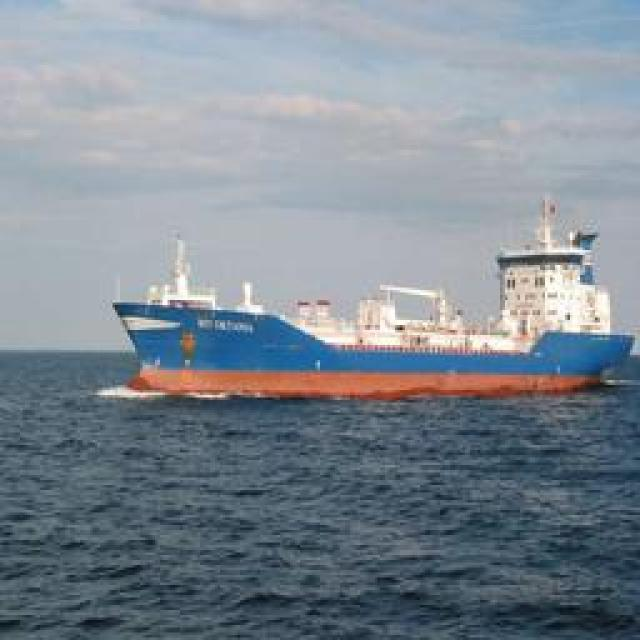CIV_Ship: (95, 224, 633, 402)
